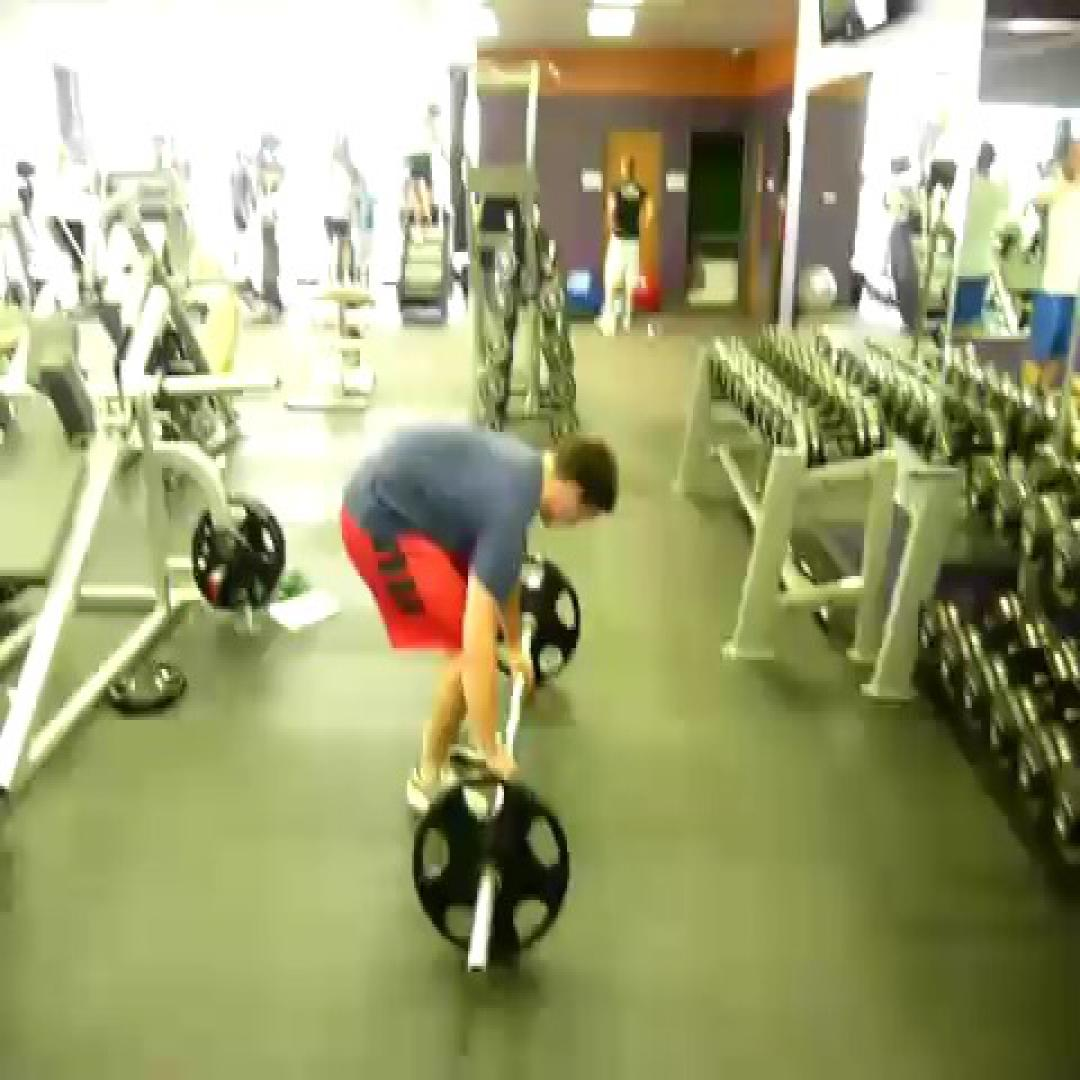Barbell: (412, 777, 569, 960)
